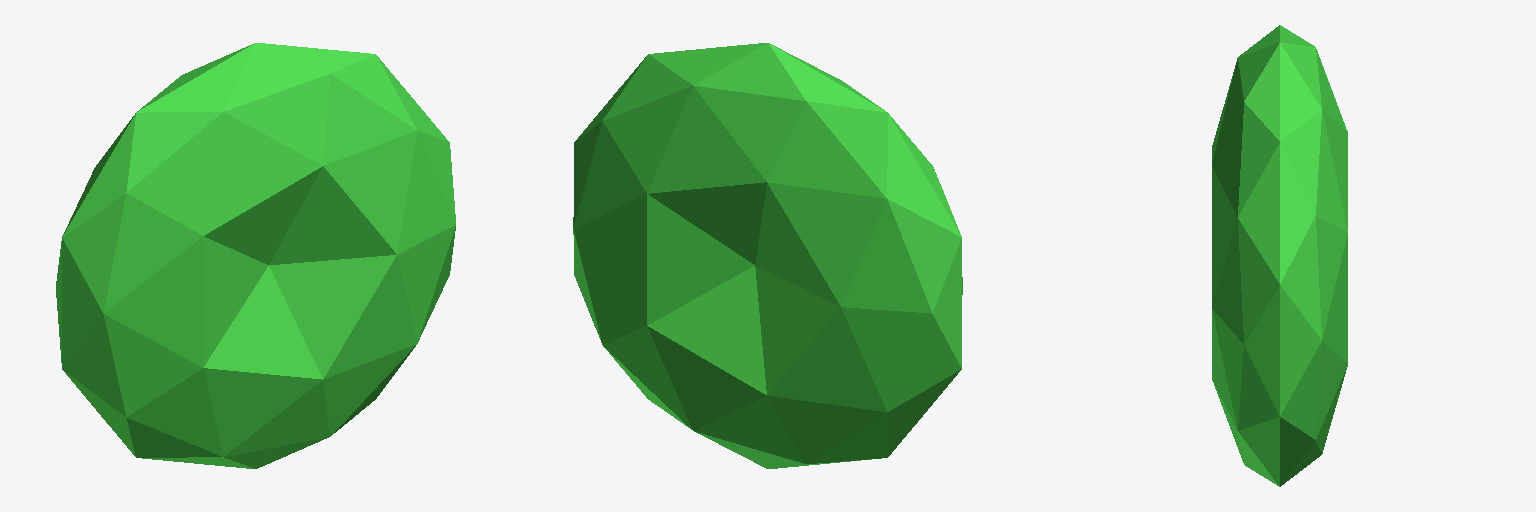
3 views of the same model, side by side, from view 1: azimuth 30°, elevation 25°; view 2: azimuth 150°, elevation 25°; view 3: azimuth 270°, elevation 25° (orthographic).
Parts seen in each view (by area): view 1: GeoSphere01; view 2: GeoSphere01; view 3: GeoSphere01.
Part boxes in pixels (left/top/right/bottom): GeoSphere01: left=56, top=43, right=455, bottom=468; GeoSphere01: left=573, top=43, right=962, bottom=468; GeoSphere01: left=1212, top=25, right=1347, bottom=486.
Size of the model in its own units: 57.06 by 60 by 17.38.